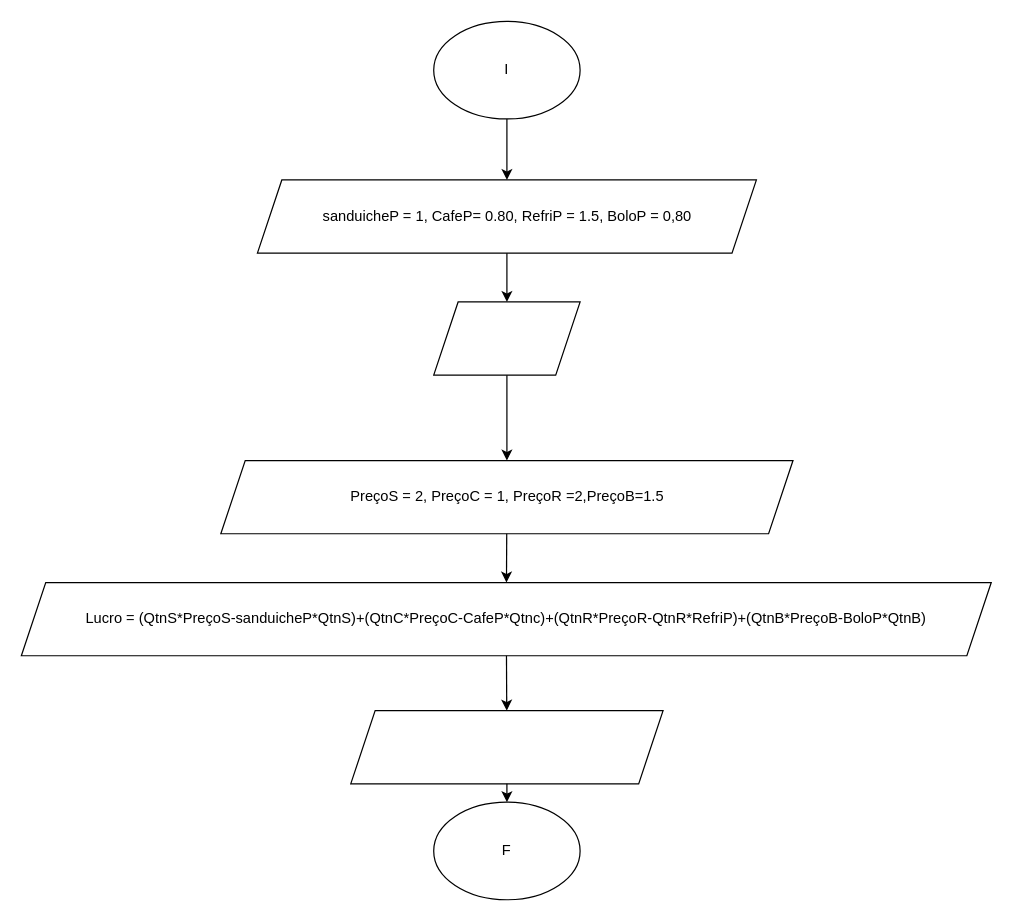
This 1013x921 diagram has some shape labels left out. Here are the shapes that lost their labels. From the top down, the centre of each, then its label:
point (506, 338): QtnS= 10 QtnC = 5 QtnR = 12 QtnB = 30
point (506, 746): Escrever "o lucro do dia foi " Lucro "euros"
